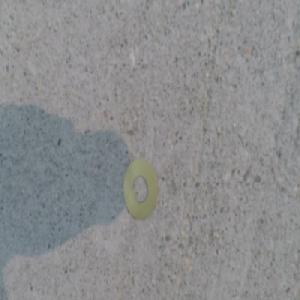Washer: (119, 155, 156, 221)
